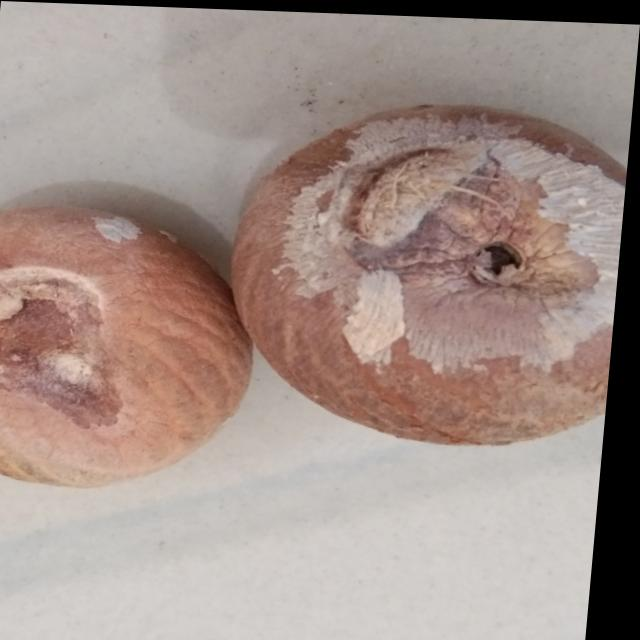good: (0, 209, 238, 489)
phatora: (240, 87, 634, 455)
